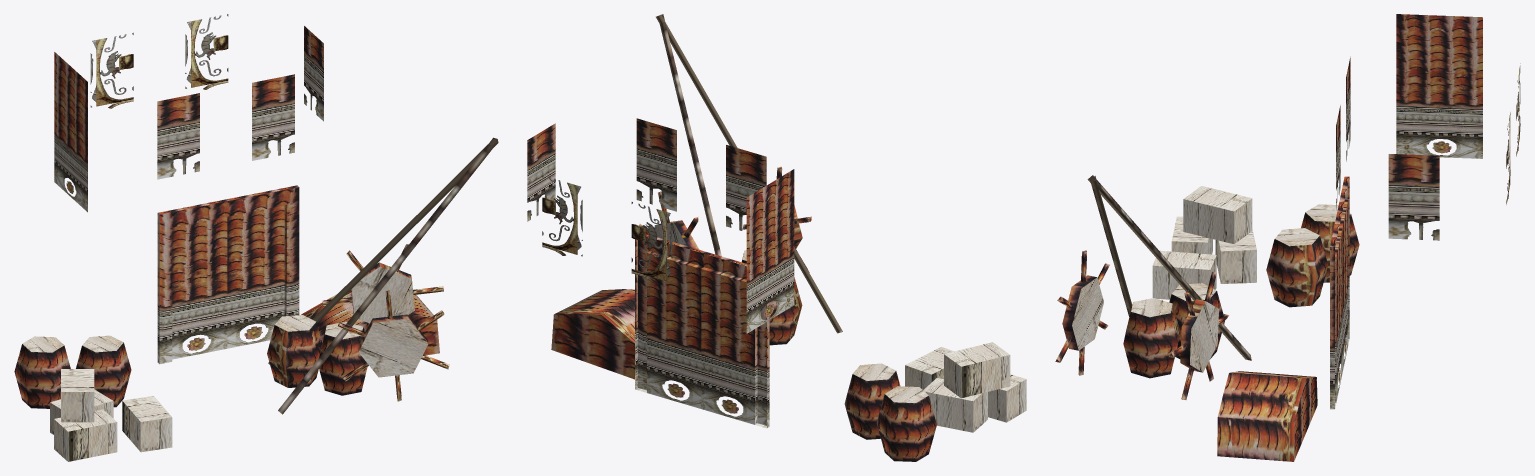
File: rome_mill_props_2.dae
The picture shows the model from 3 angles, left to right: view 1: azimuth 30°, elevation 25°; view 2: azimuth 150°, elevation 25°; view 3: azimuth 270°, elevation 25°; orthographic projection. The views are drawn at different scales.
Visible parts, largest first — view 1: Object08-Pivot; view 2: Object08-Pivot; view 3: Object08-Pivot.
Part boxes in pixels (<box>): Object08-Pivot: <box>14,14,498,461</box>; Object08-Pivot: <box>527,14,1026,461</box>; Object08-Pivot: <box>1055,14,1520,461</box>.
Size of the model in its own units: 13.88 by 12.85 by 9.16.
